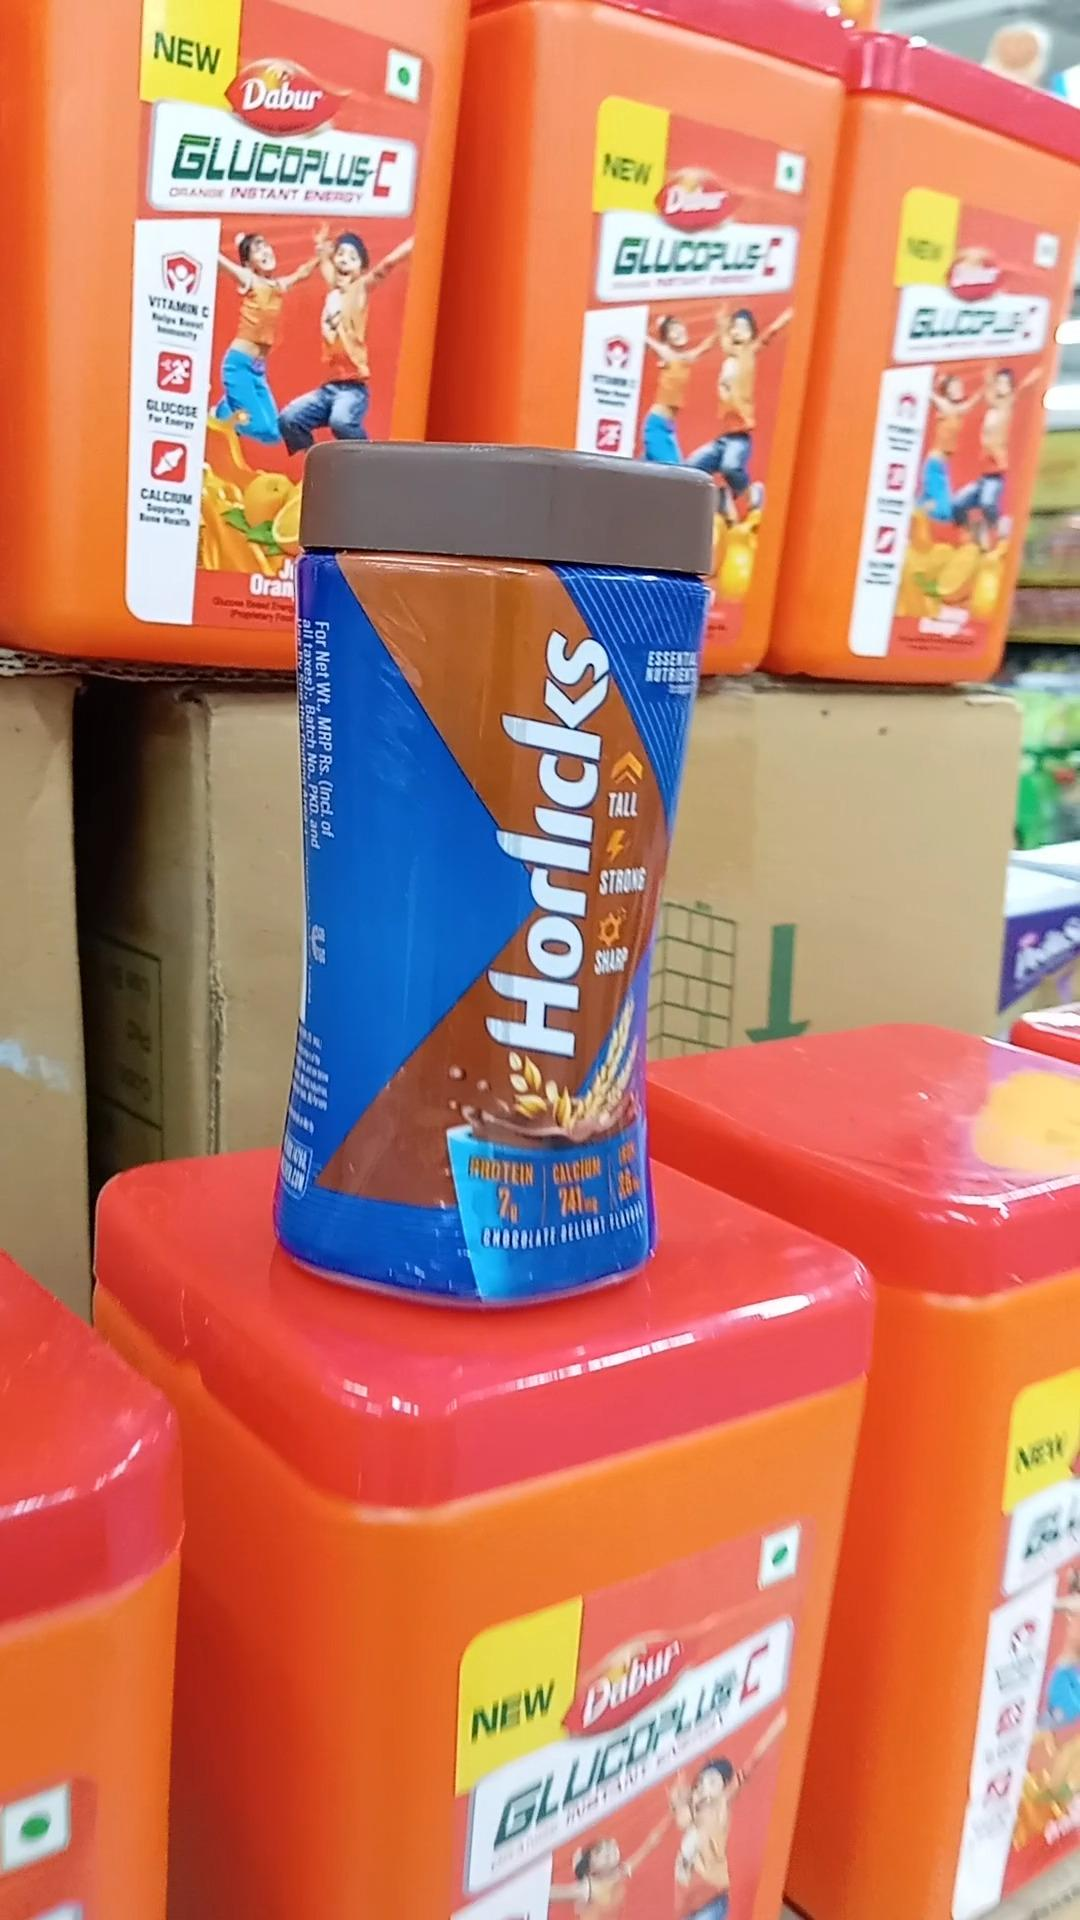HORLICK_CHOCOLATE_200_G_JAR: (285, 413, 687, 1302)
